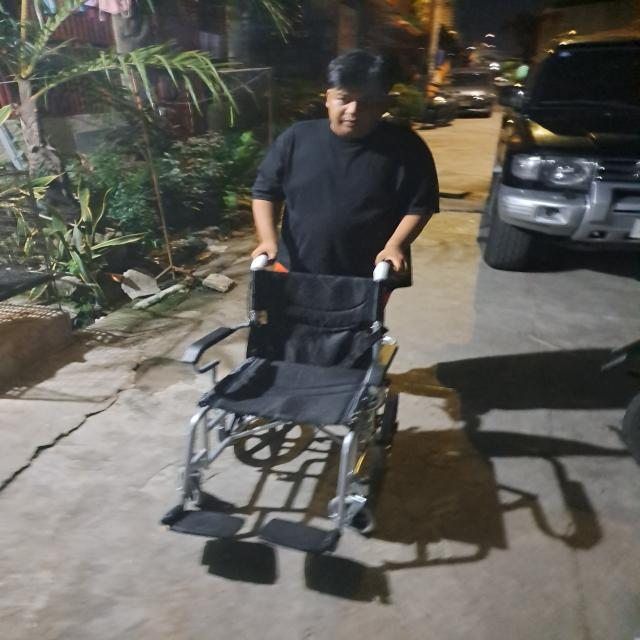wheelchairs: (156, 245, 424, 574)
